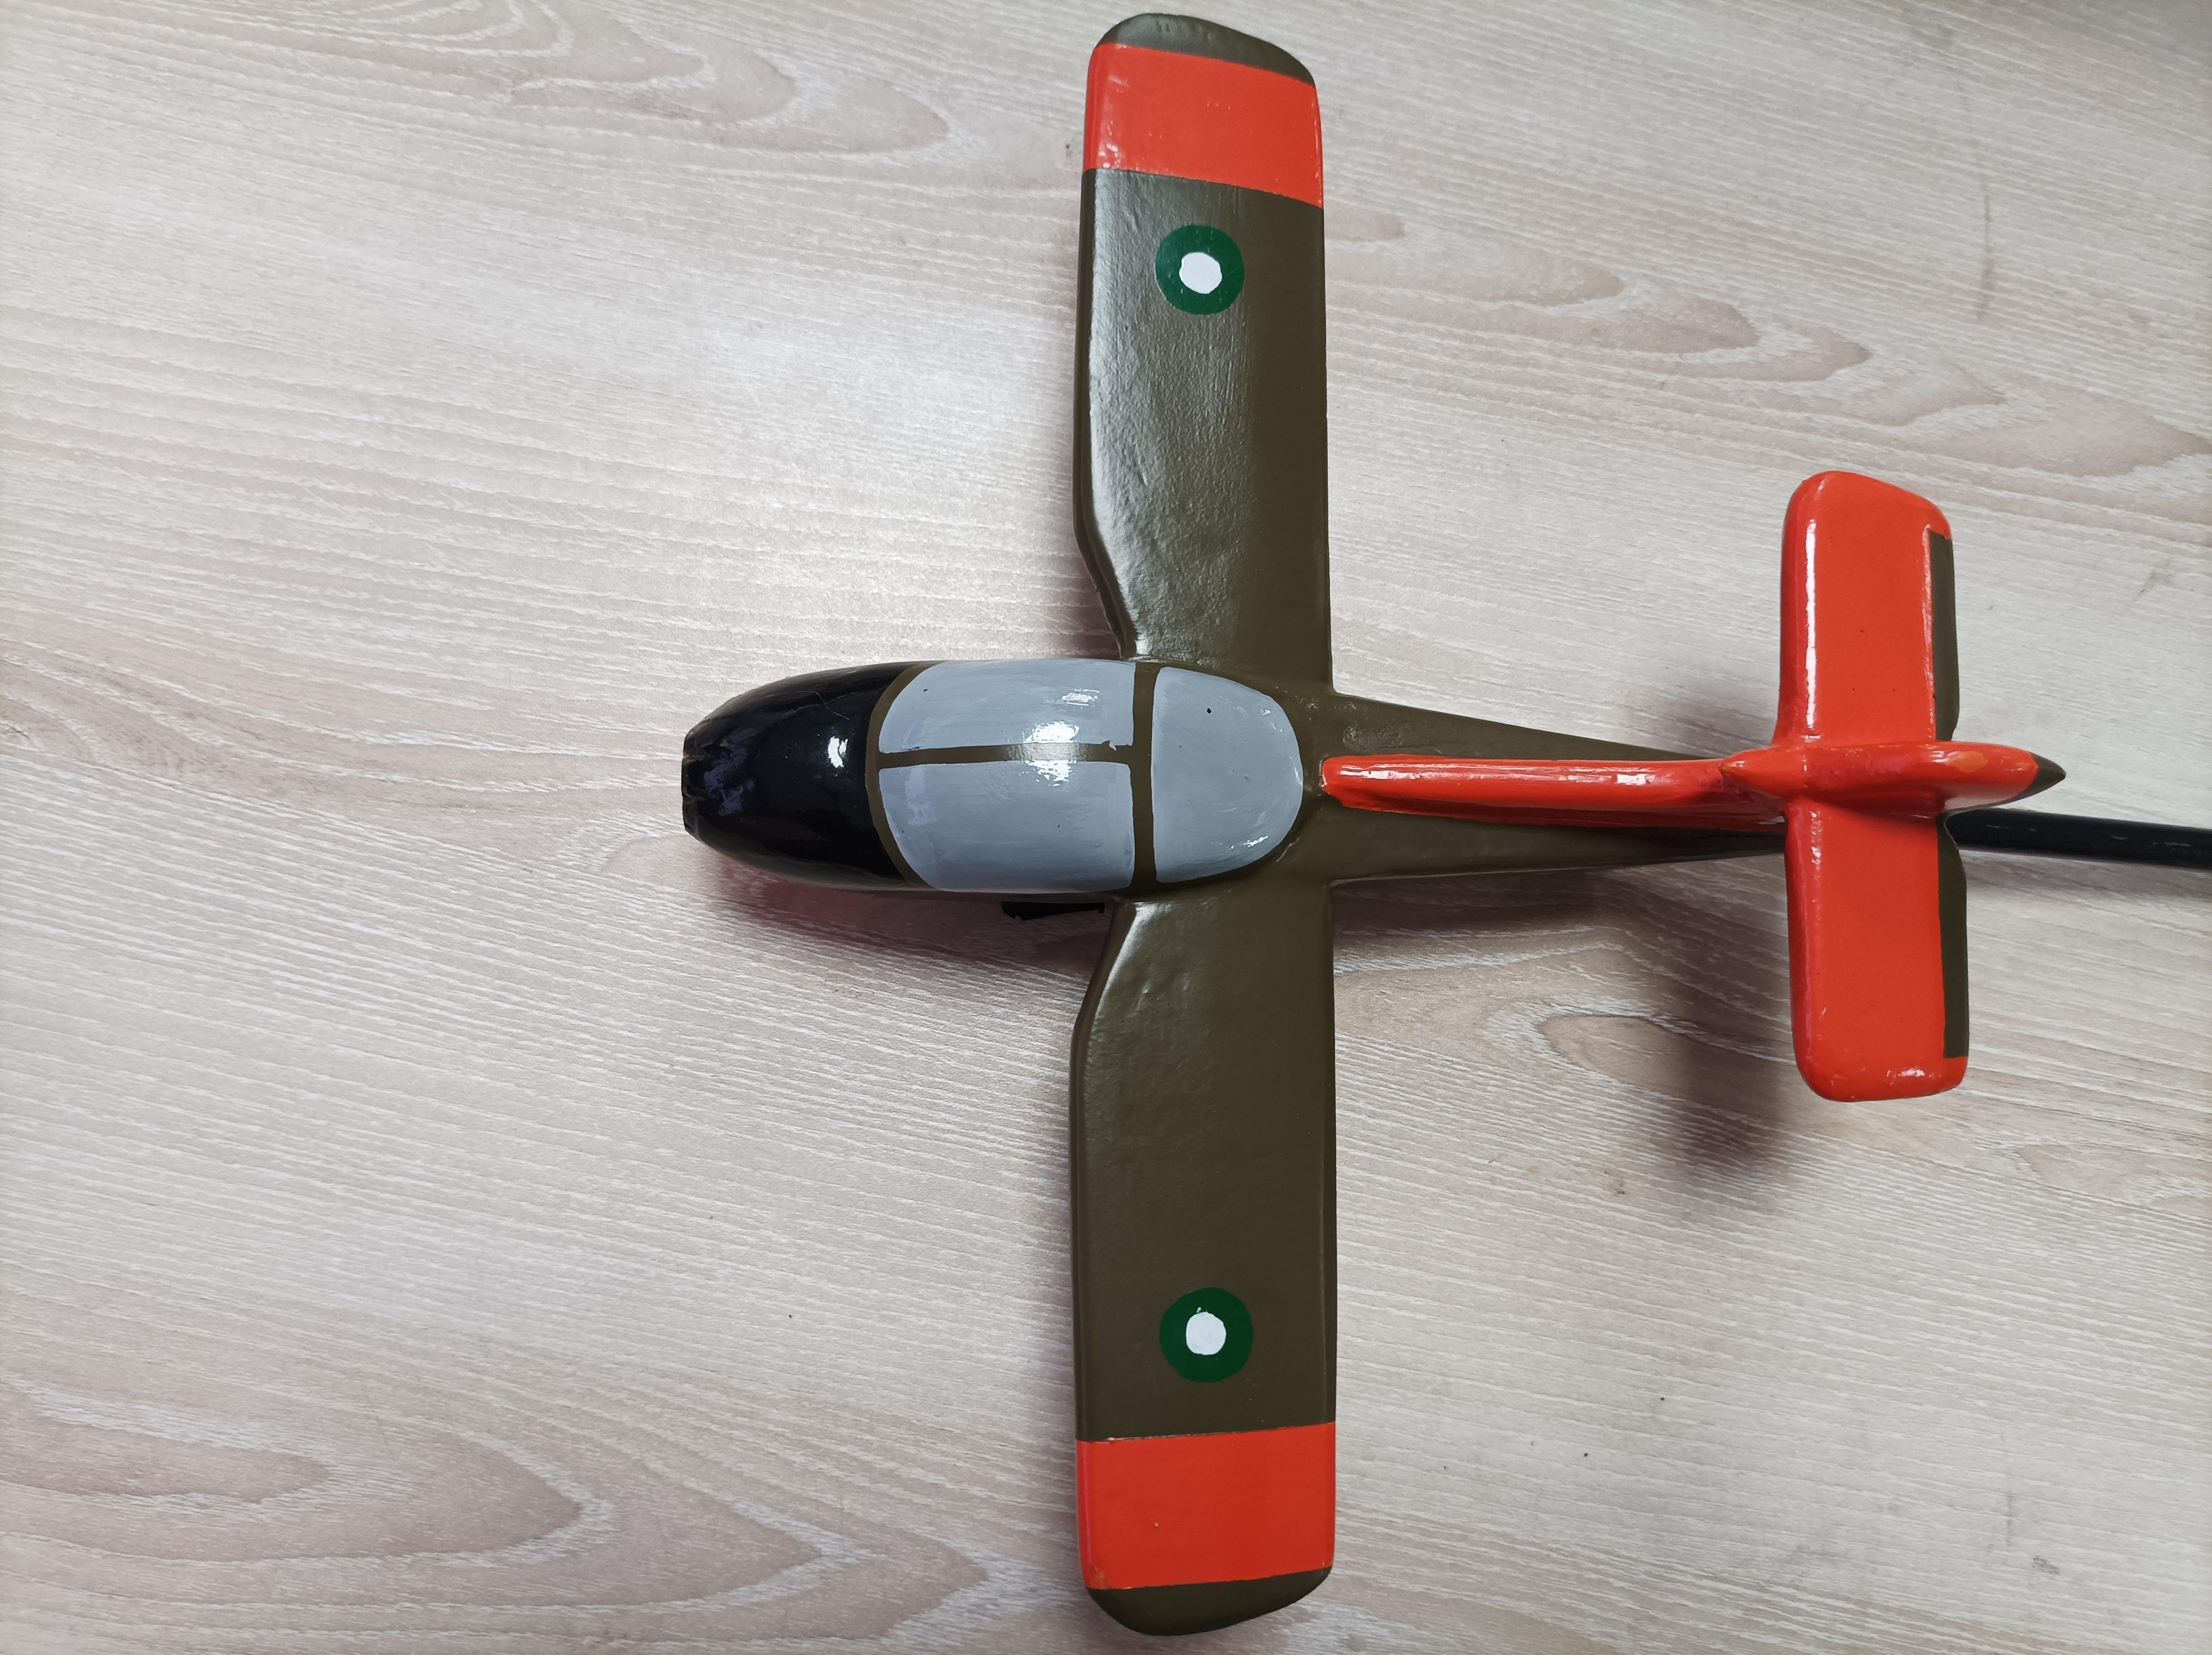Airplane: (641, 5, 2071, 1646)
